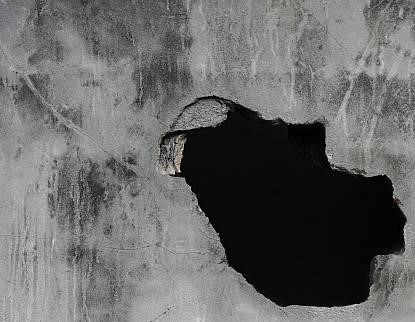Crack: (1, 44, 150, 182), (293, 1, 366, 75), (1, 234, 217, 256)
Spalling: (157, 95, 408, 308)
